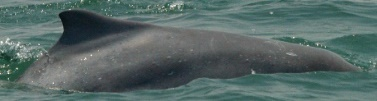fin: (17, 8, 365, 99)
